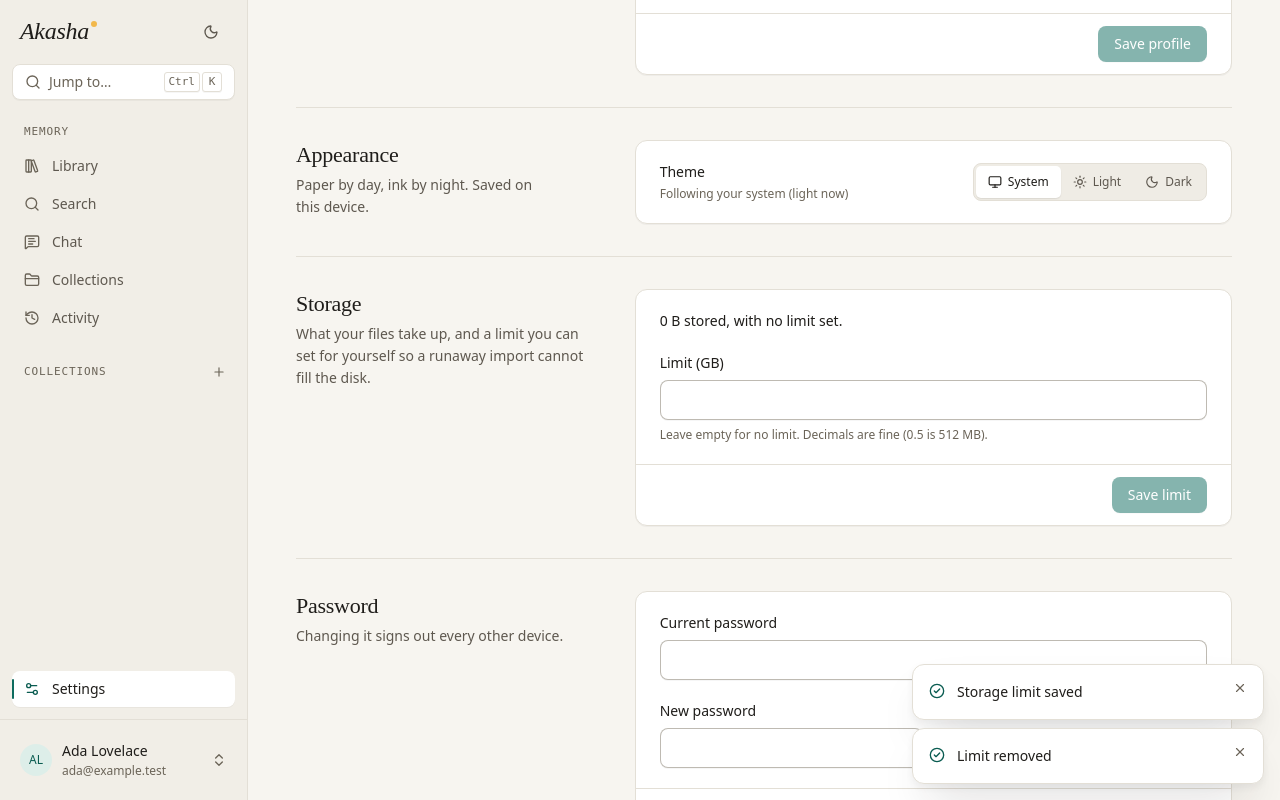
Test: settings → storage › refuses a negative limit without sending anything
(page scrolled)
Type "-5" into the number field labelled "Limit (GB)" at (933, 400), box top-left (660, 380), bottom-right (1207, 420)
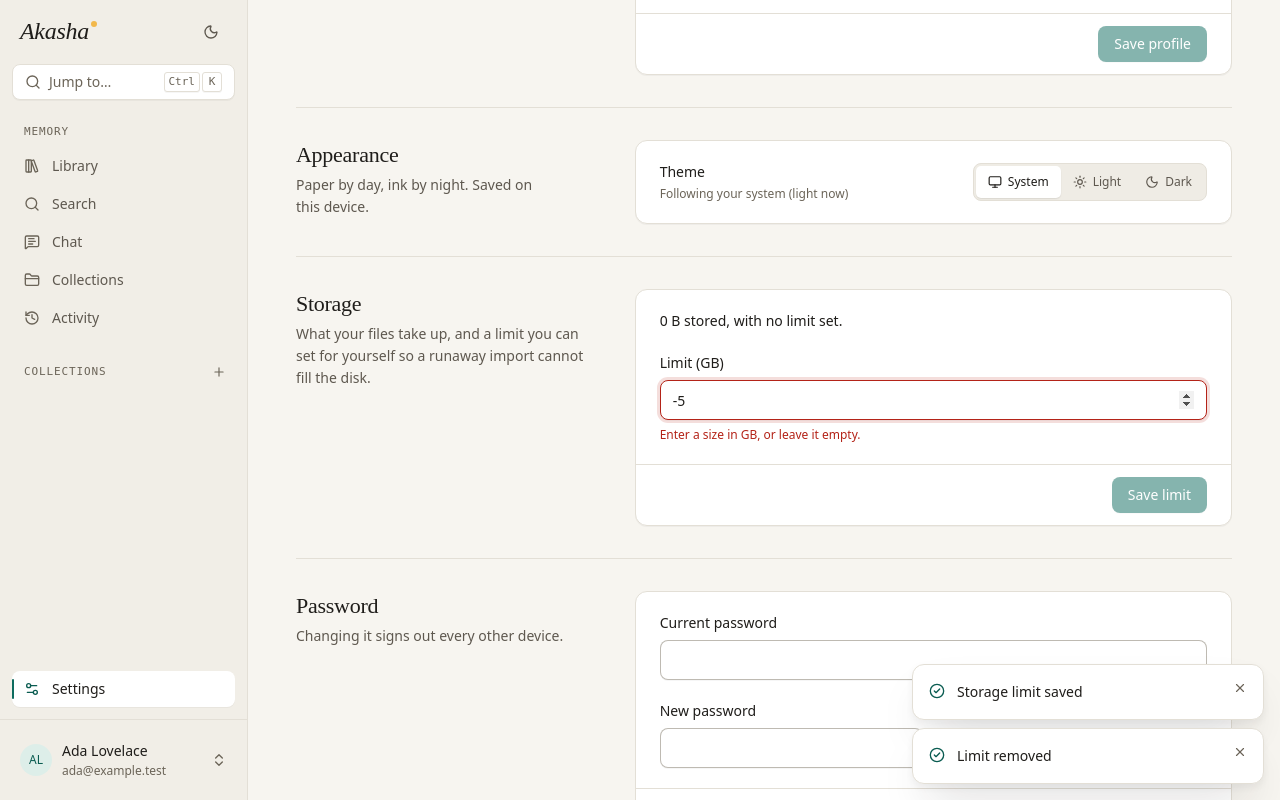
expect the button "Save limit" is disabled: met, box top-left (1112, 477), bottom-right (1207, 513)
expect the text "Enter a size in GB, or leave it empty." is shown: met, box top-left (660, 426), bottom-right (861, 443)
